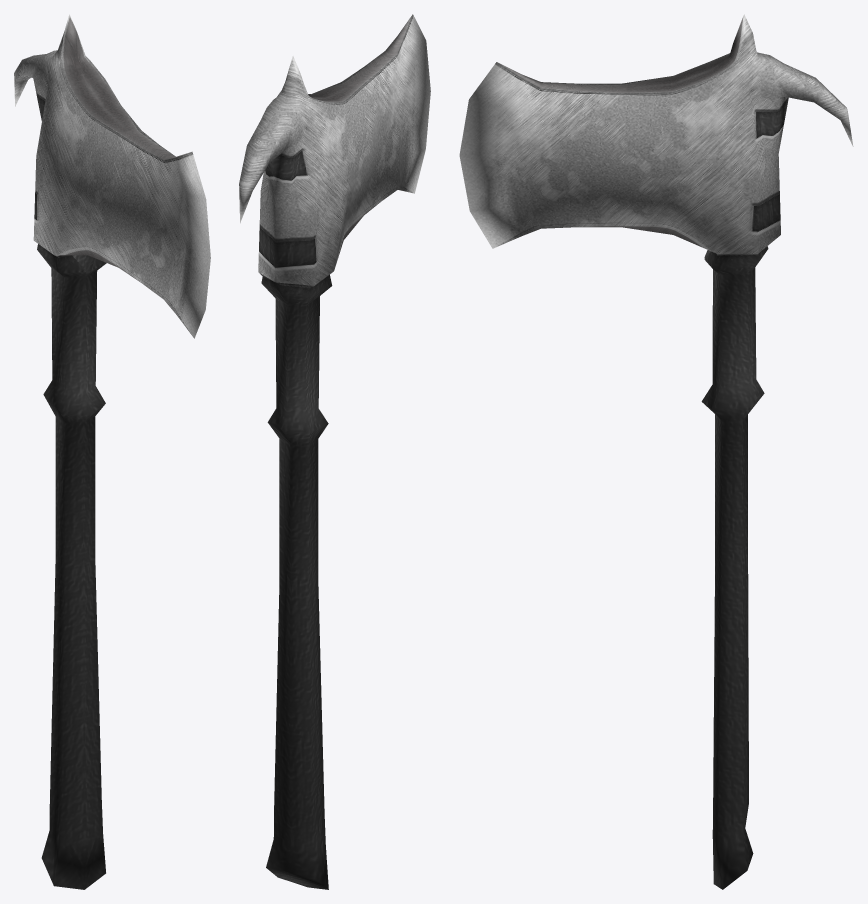
File: Hatchet.obj
The picture shows the model from 3 angles, left to right: view 1: azimuth 30°, elevation 25°; view 2: azimuth 150°, elevation 25°; view 3: azimuth 270°, elevation 25°; orthographic projection. The views are drawn at different scales.
Parts seen in each view (by area): view 1: Cube; view 2: Cube; view 3: Cube.
Boxes of the visible parts, <box> form: Cube: <box>14,14,210,889</box>; Cube: <box>239,14,430,889</box>; Cube: <box>459,14,853,889</box>.
Bounding box in the file's own units: 0.0371 × 0.5293 × 0.2172.
